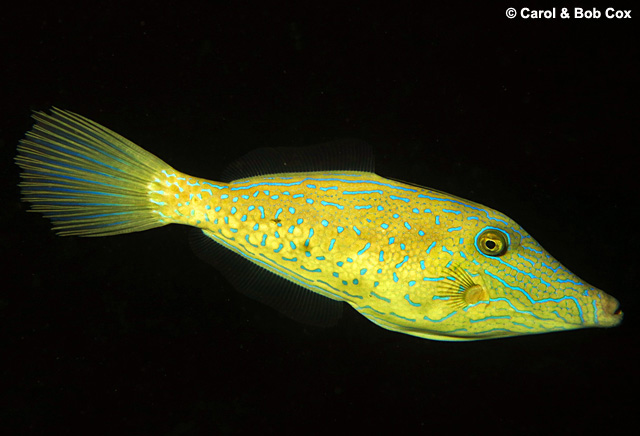Aluterus_scriptus: (6, 98, 632, 358)
